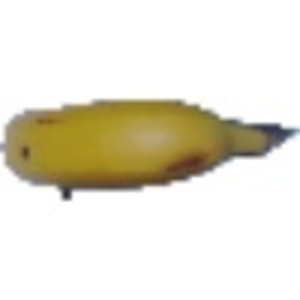banana: (1, 90, 297, 191)
